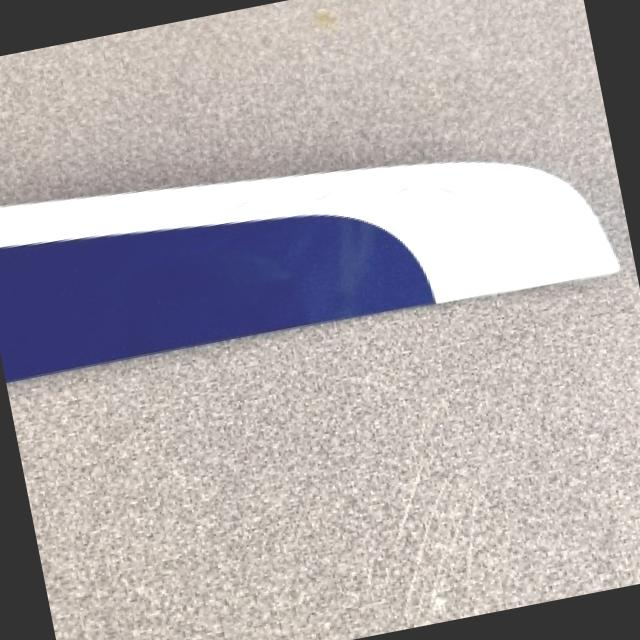healthy: (0, 162, 616, 381)
